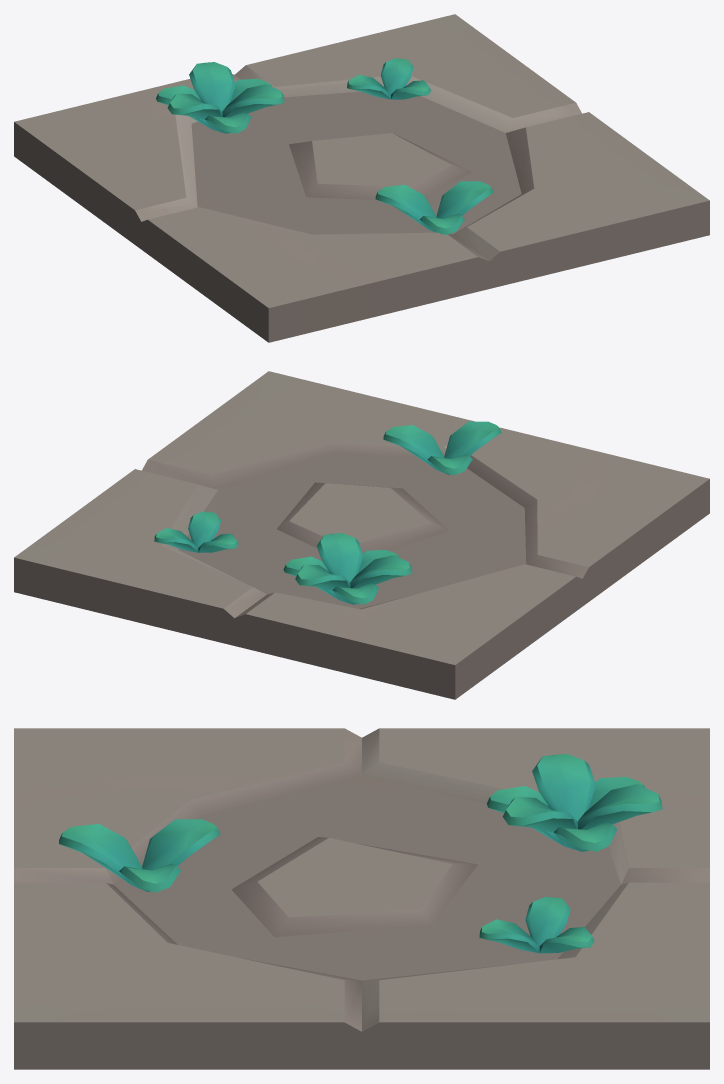
The model's file is floor-tile-small-weeds-a-gltf.glb.
The picture shows the model from 3 angles, top to bottom: view 1: azimuth 30°, elevation 25°; view 2: azimuth 150°, elevation 25°; view 3: azimuth 270°, elevation 25°; orthographic projection. The views are drawn at different scales.
Parts seen in each view (by area): view 1: floor_tile_small_weeds_A; view 2: floor_tile_small_weeds_A; view 3: floor_tile_small_weeds_A.
Part boxes in pixels (x1=…): floor_tile_small_weeds_A: x1=14, y1=14, x2=709, y2=342; floor_tile_small_weeds_A: x1=14, y1=371, x2=709, y2=699; floor_tile_small_weeds_A: x1=14, y1=728, x2=709, y2=1069.
Size of the model in its own units: 2 by 0.2954 by 2.
1 material, 1 textured.
